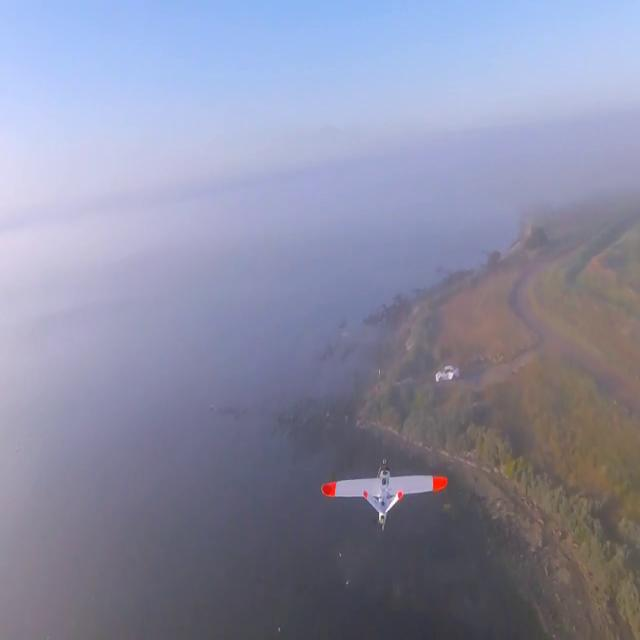iha: (320, 492, 449, 494)
